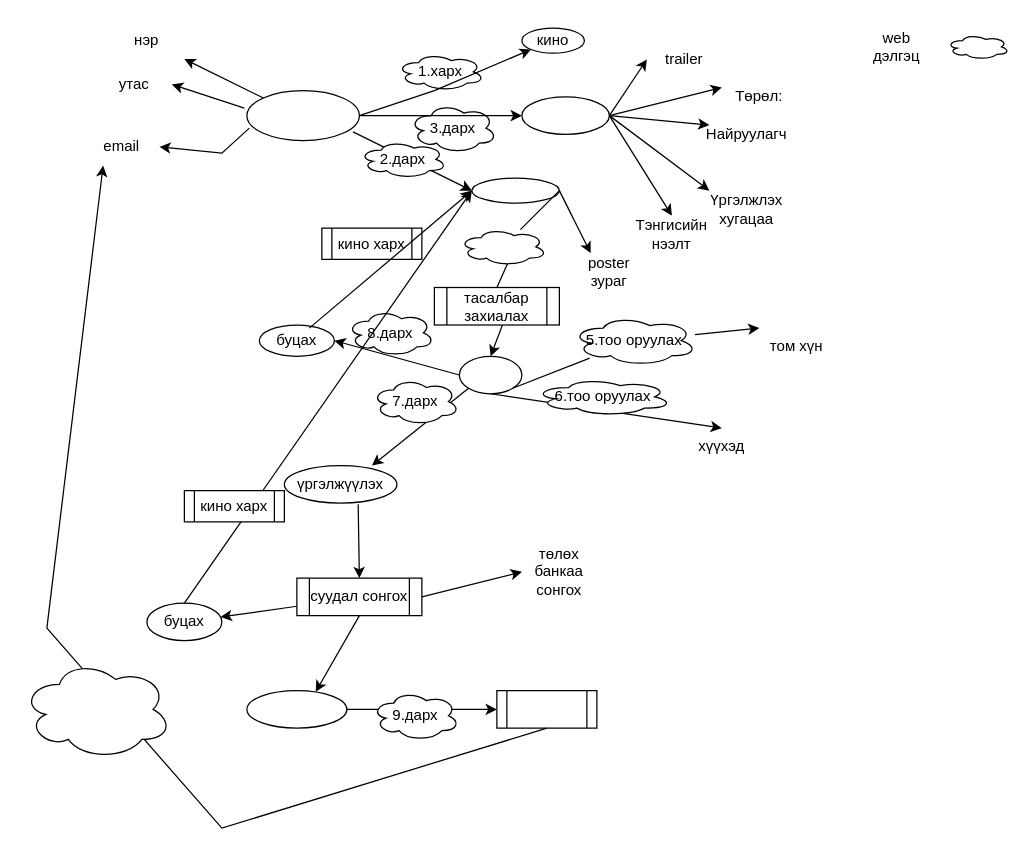
The diagram is 1031 pixels wide and 860 high, and some of its shapes have lost their labels. The shapes that lost their labels are listed below. From the top down, each one's centre as x and y in pixels, then its label:
(x=302, y=115): захиалагч
(x=565, y=115): дэлгэрэнгүй
(x=515, y=190): захиалга
(x=502, y=246): 4.сонгож дарх
(x=490, y=374): цаг
(x=96, y=708): баталгаажуулсан баримт
(x=296, y=708): үргэлжлүүлэх
(x=546, y=708): төлөх
